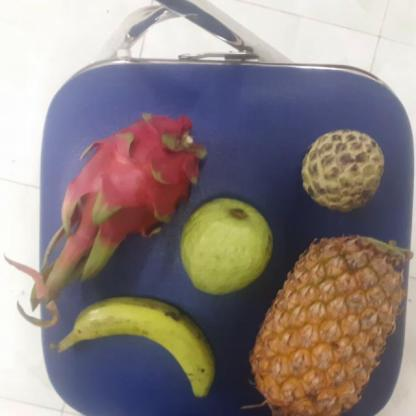annona: (297, 130, 386, 211)
banana: (54, 294, 214, 398)
guava: (174, 196, 273, 293)
pineapple: (250, 238, 405, 416)
pitaya: (60, 112, 200, 242)
